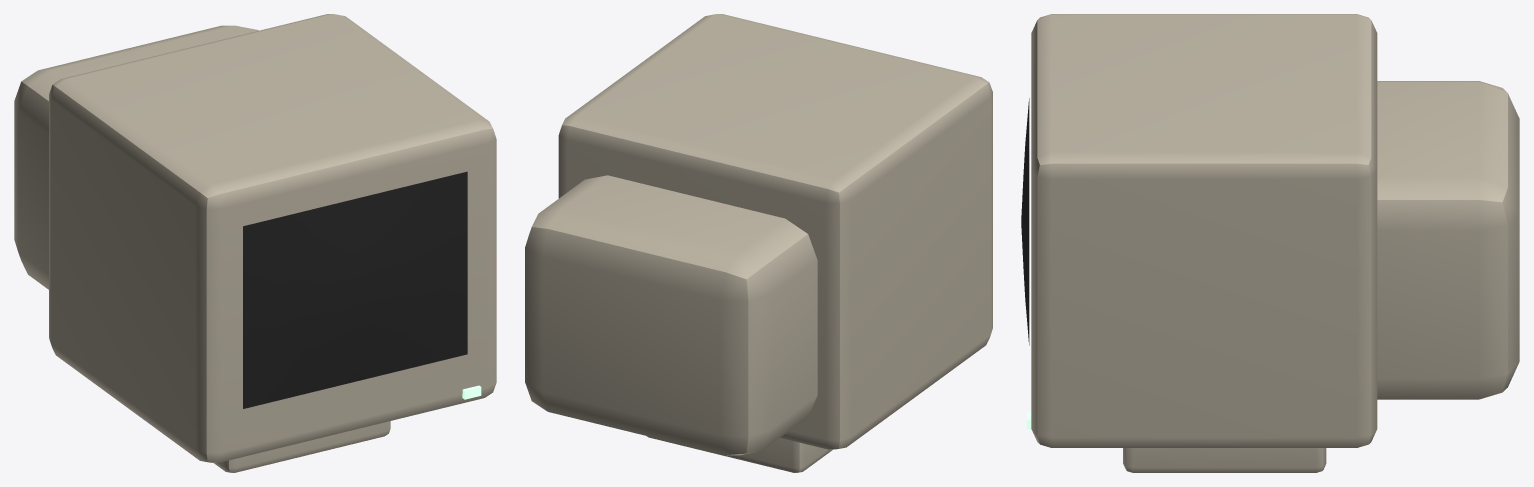
The model's file is SM_CRT_Monitor.fbx.
3 views of the same model, side by side, from view 1: azimuth 30°, elevation 25°; view 2: azimuth 150°, elevation 25°; view 3: azimuth 270°, elevation 25° (orthographic). The views are drawn at different scales.
Visible parts, largest first — view 1: SM_CRT_Monitor_1; view 2: SM_CRT_Monitor_1; view 3: SM_CRT_Monitor_1.
Boxes of the visible parts, x1,y1,x2,y2 form: SM_CRT_Monitor_1: [14, 14, 496, 472]; SM_CRT_Monitor_1: [525, 14, 992, 472]; SM_CRT_Monitor_1: [1021, 14, 1519, 472].
Bounding box in the file's own units: 36 × 38 × 49.
